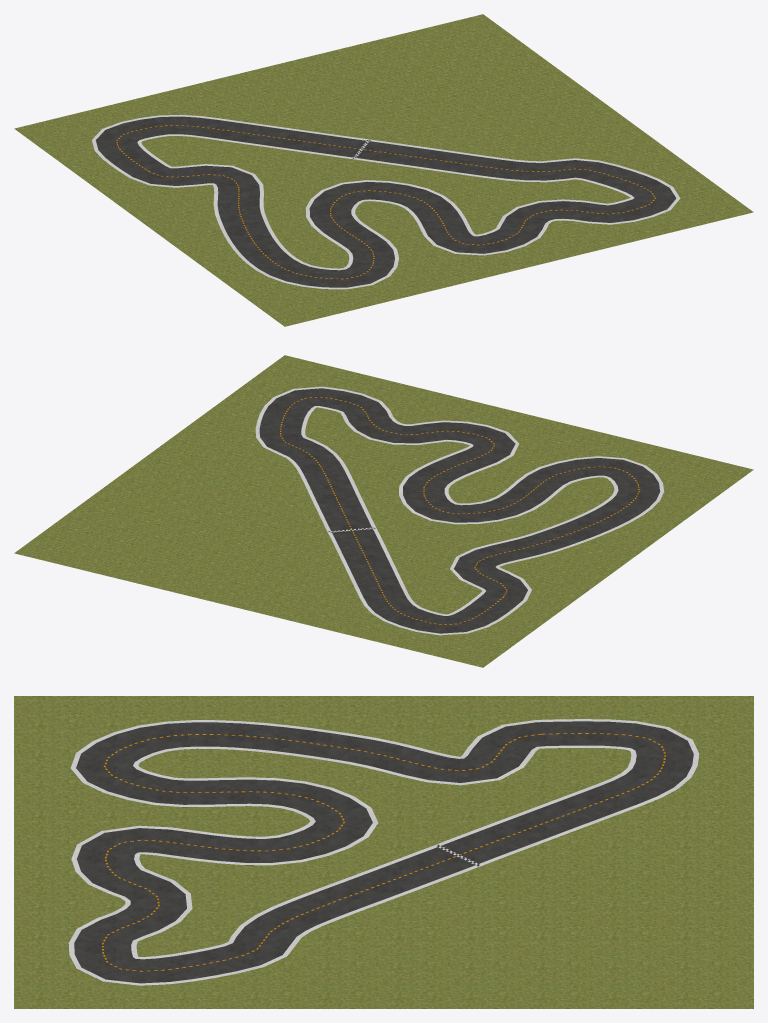
File: 2022_reinvent_champ_ccw.dae
The picture shows the model from 3 angles, top to bottom: view 1: azimuth 30°, elevation 25°; view 2: azimuth 150°, elevation 25°; view 3: azimuth 270°, elevation 25°; orthographic projection. The views are drawn at different scales.
Parts seen in each view (by area): view 1: field, road, ol, il, cl; view 2: field, road, ol, il, cl; view 3: field, road, ol, il, cl.
Boxes of the visible parts, <box> form: field: <box>14,14,753,326</box>; road: <box>96,116,676,289</box>; ol: <box>92,114,680,289</box>; il: <box>137,134,634,270</box>; cl: <box>116,125,655,279</box>; field: <box>14,355,753,667</box>; road: <box>259,388,660,634</box>; ol: <box>255,386,664,635</box>; il: <box>301,406,618,615</box>; cl: <box>280,397,639,624</box>; field: <box>14,696,753,1008</box>; road: <box>74,721,693,985</box>; ol: <box>68,719,699,985</box>; il: <box>131,745,636,959</box>; cl: <box>102,733,665,971</box>.
Size of the model in its own units: 10.33 by 10.32 by 0.0025.
6 materials, 6 textured.
